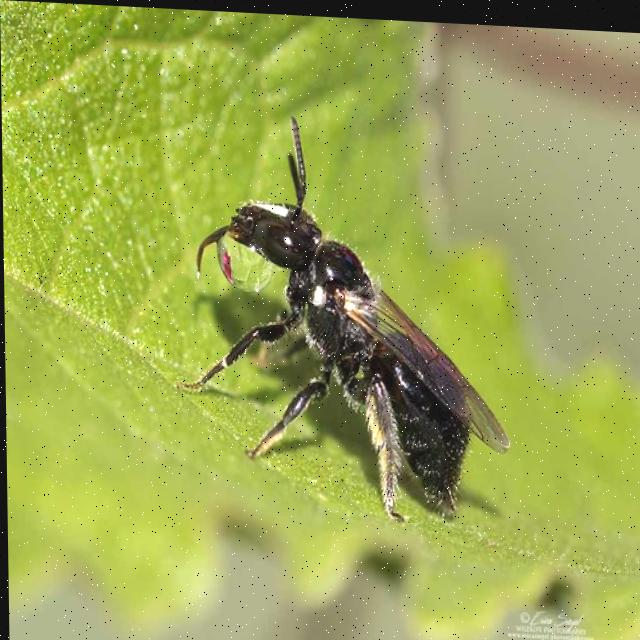Braunsapis: (188, 108, 475, 521)
